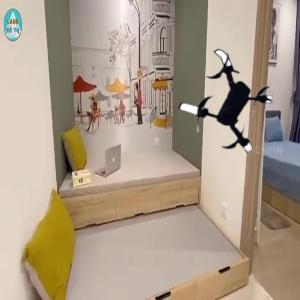drone: (170, 48, 280, 158)
